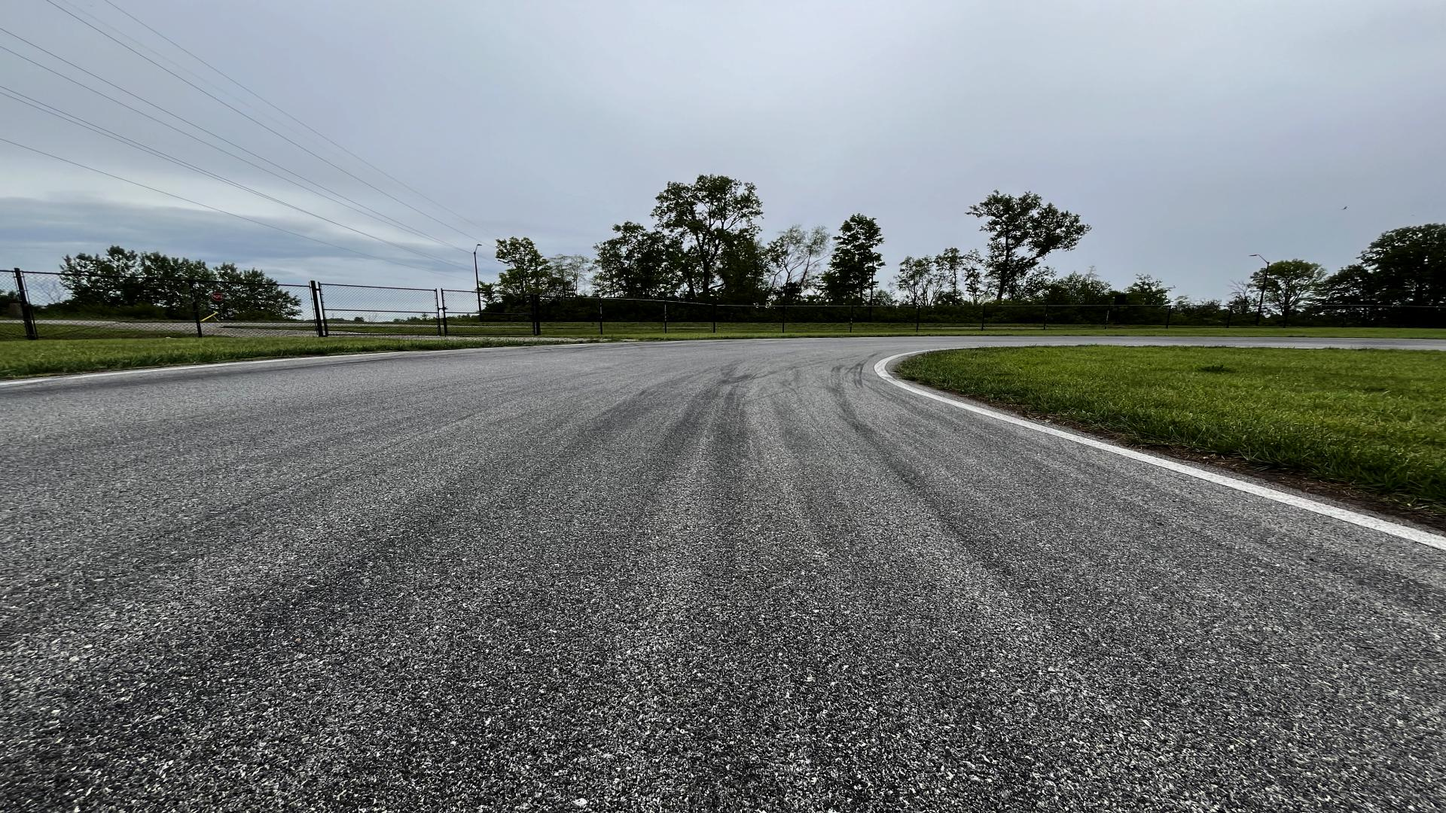white-line: (874, 345, 1445, 549), (0, 335, 1233, 388)
